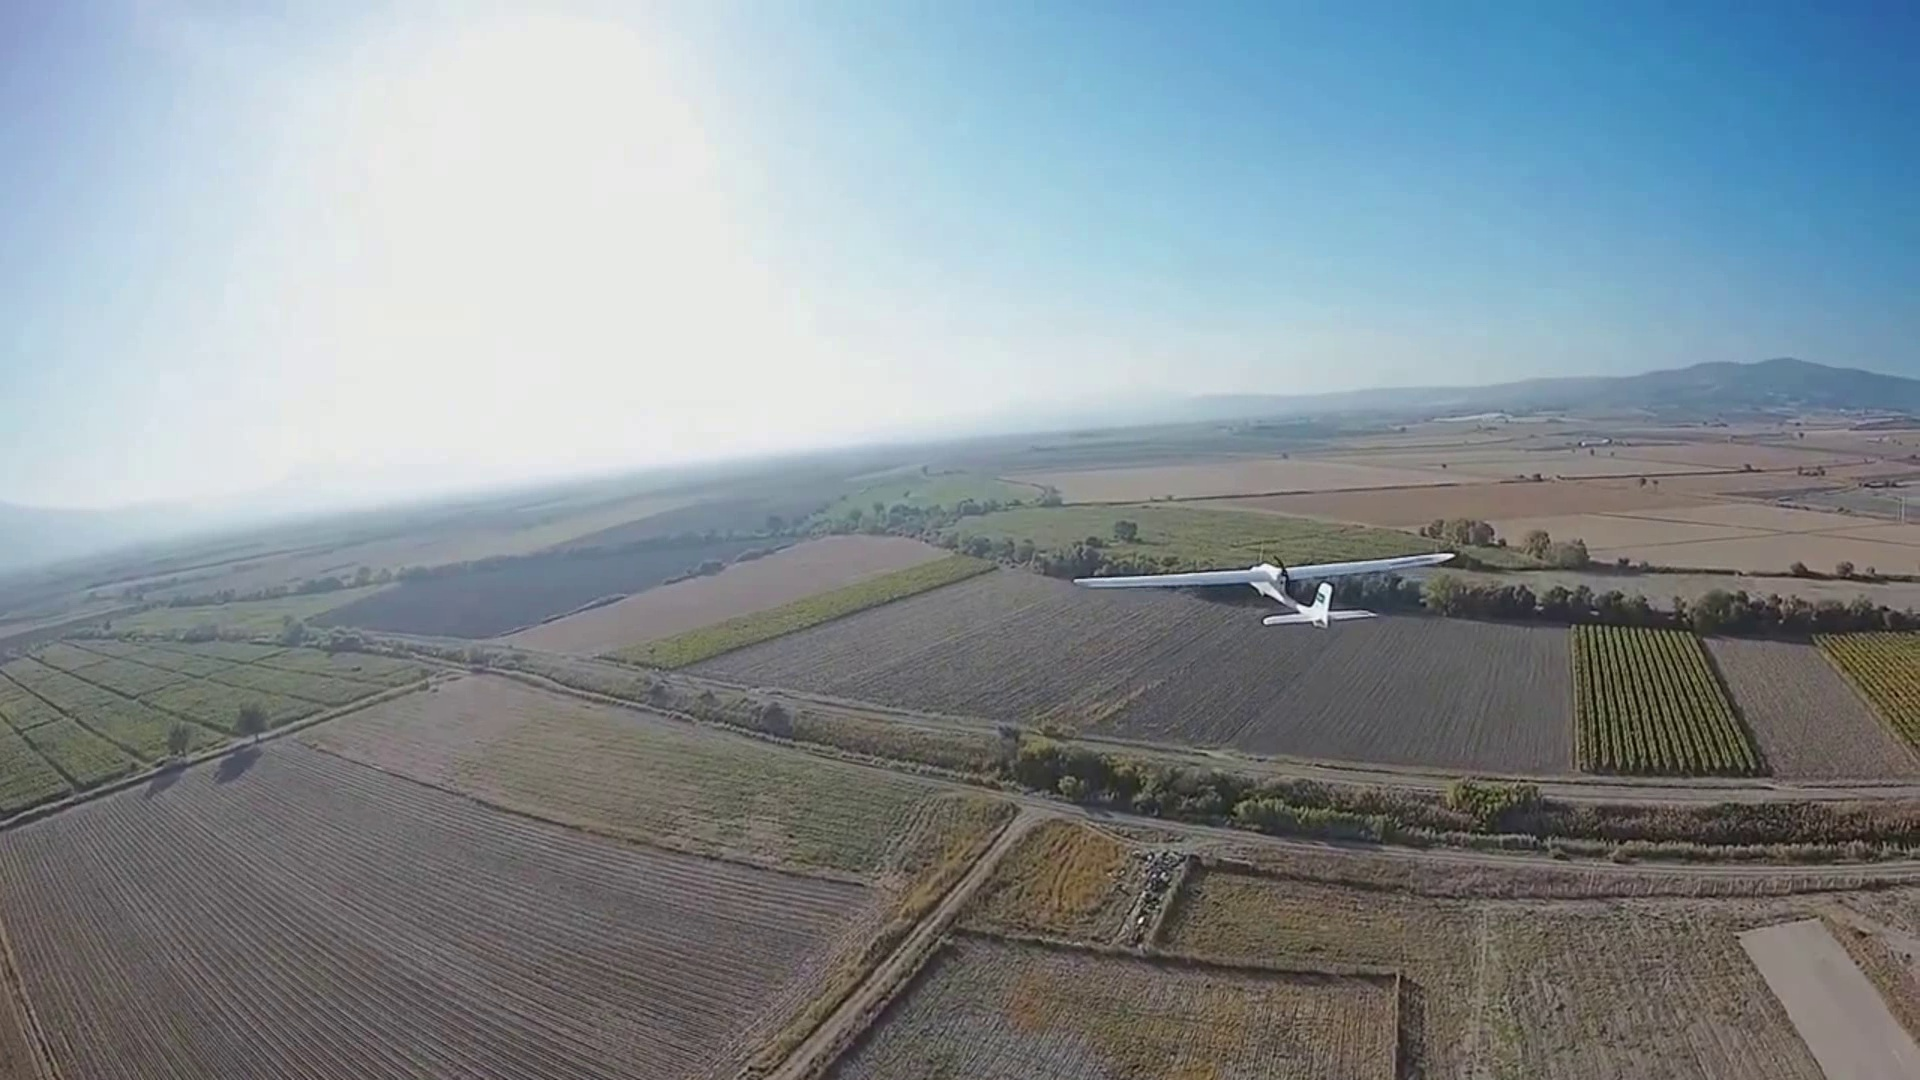airplane: (1244, 553, 1458, 625)
